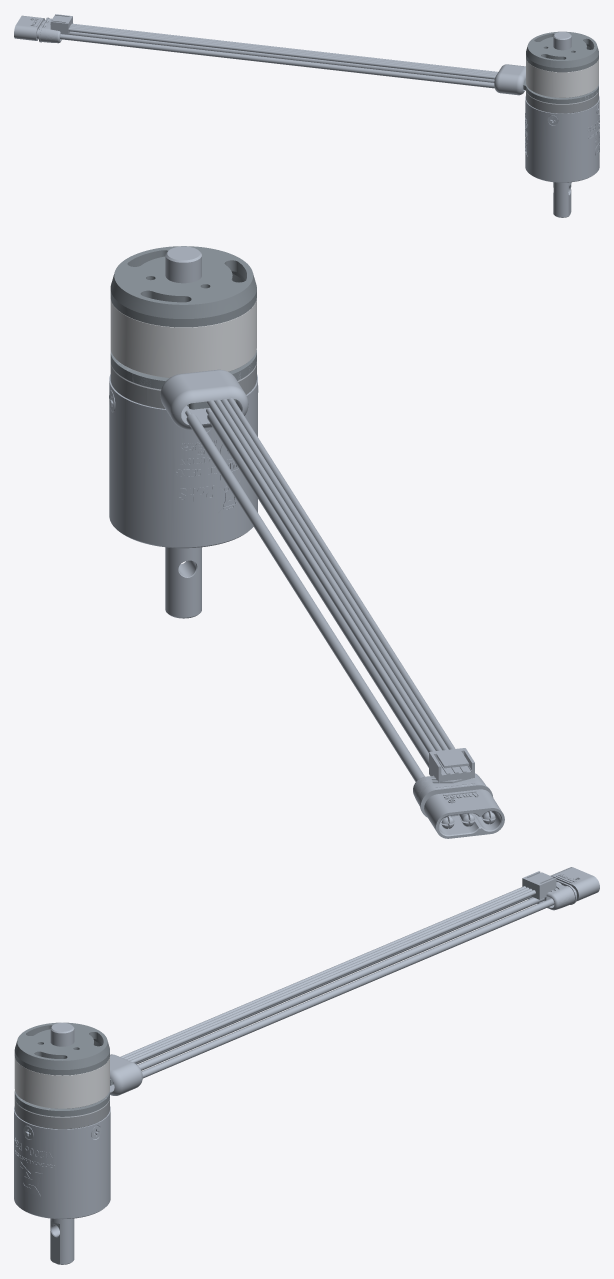
The picture shows the model from 3 angles, top to bottom: view 1: azimuth 30°, elevation 25°; view 2: azimuth 150°, elevation 25°; view 3: azimuth 270°, elevation 25°; orthographic projection. The views are drawn at different scales.
Visible parts, largest first — view 1: M2006 P36 017, M2006 P36 015, M2006 P36 012, M2006 P36 003, M2006 P36 3, M2006 P36 014, M2006 P36 016, M2006 P36 002, M2006 P36 033, M2006 P36 001, M2006 P36 034, M2006 P36 004; view 2: M2006 P36 017, M2006 P36 015, M2006 P36 003, M2006 P36 3, M2006 P36 013, M2006 P36 014, M2006 P36 033, M2006 P36 016, M2006 P36 002, M2006 P36 004, M2006 P36 001; view 3: M2006 P36 017, M2006 P36 015, M2006 P36 003, M2006 P36 013, M2006 P36 014, M2006 P36 3, M2006 P36 002, M2006 P36 016, M2006 P36 033, M2006 P36 012, M2006 P36 001, M2006 P36 034 (+1 smaller).
Boxes of the visible parts, box(x1,y1,x2,y2) form: M2006 P36 017: box(525, 96, 599, 217); M2006 P36 015: box(50, 14, 497, 79); M2006 P36 012: box(60, 34, 494, 88); M2006 P36 003: box(526, 31, 598, 72); M2006 P36 3: box(526, 59, 598, 97); M2006 P36 014: box(68, 31, 494, 82); M2006 P36 016: box(494, 64, 525, 95); M2006 P36 002: box(526, 90, 598, 113); M2006 P36 033: box(14, 15, 48, 42); M2006 P36 001: box(523, 78, 598, 103); M2006 P36 034: box(40, 18, 61, 43); M2006 P36 004: box(553, 32, 571, 50); M2006 P36 017: box(109, 374, 257, 618); M2006 P36 015: box(206, 398, 474, 783); M2006 P36 003: box(110, 246, 256, 327); M2006 P36 3: box(110, 298, 256, 377); M2006 P36 013: box(185, 410, 424, 781); M2006 P36 014: box(206, 408, 428, 767); M2006 P36 033: box(420, 784, 504, 838); M2006 P36 016: box(160, 369, 248, 429); M2006 P36 002: box(110, 362, 256, 408); M2006 P36 004: box(165, 246, 201, 283); M2006 P36 001: box(110, 350, 256, 409); M2006 P36 017: box(14, 1106, 110, 1264); M2006 P36 015: box(120, 871, 556, 1063); M2006 P36 003: box(14, 1022, 109, 1075); M2006 P36 013: box(141, 898, 554, 1078); M2006 P36 014: box(137, 897, 544, 1070); M2006 P36 3: box(14, 1056, 109, 1108); M2006 P36 002: box(14, 1098, 109, 1129); M2006 P36 016: box(110, 1054, 142, 1095); M2006 P36 033: box(550, 867, 599, 904); M2006 P36 012: box(135, 896, 532, 1064); M2006 P36 001: box(14, 1078, 113, 1116); M2006 P36 034: box(528, 881, 574, 910).
Bounding box in the file's own units: 0.1465 × 0.0648 × 0.1477.
